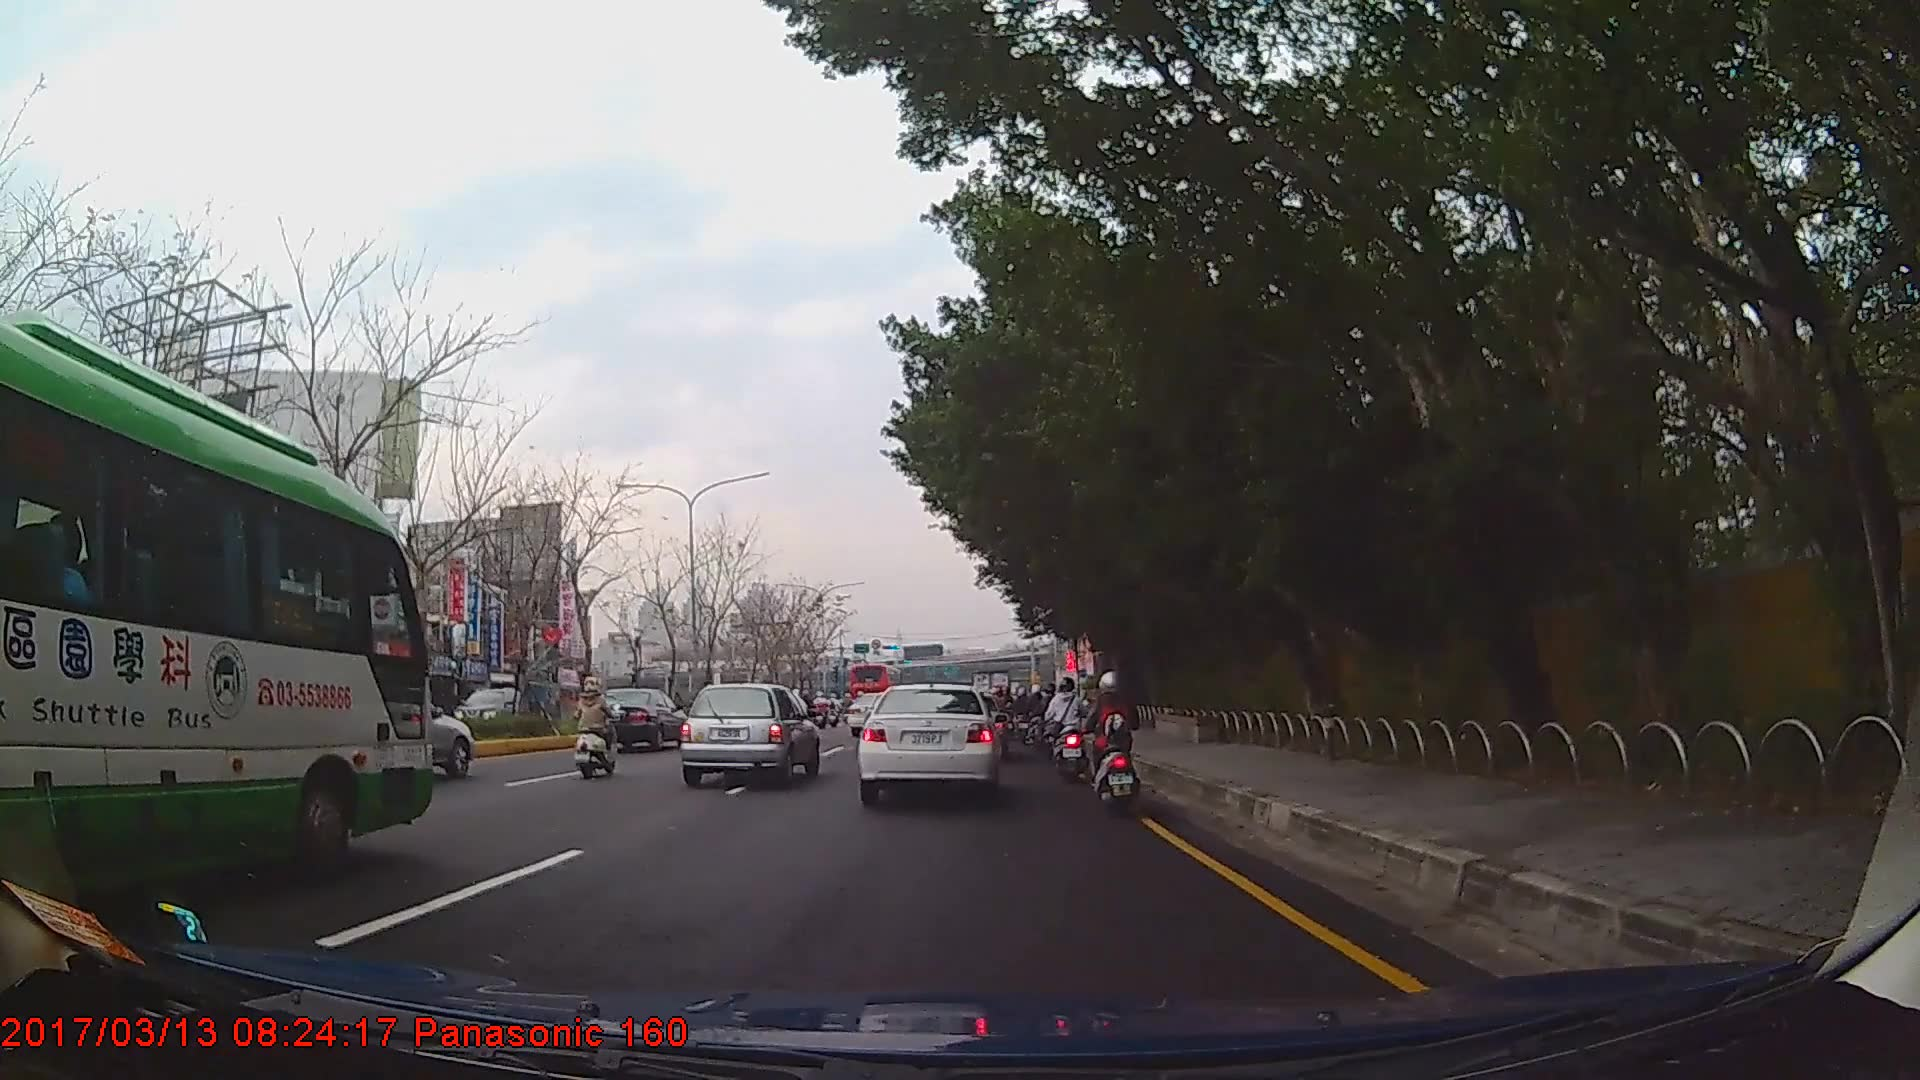rider: (1085, 669, 1148, 818), (1049, 678, 1092, 784), (576, 678, 619, 780), (1041, 680, 1063, 750)
vehicle: (0, 295, 437, 908), (855, 680, 1003, 801), (677, 681, 819, 787), (578, 685, 694, 753), (450, 684, 531, 736), (847, 656, 900, 708)
